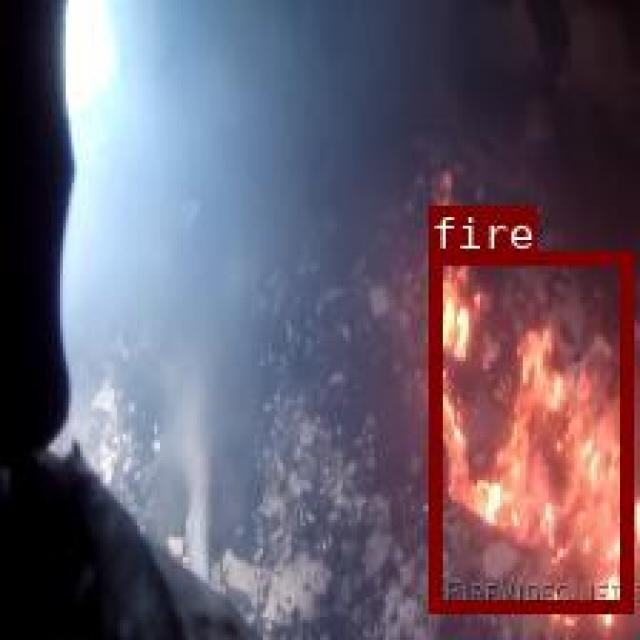fire: (427, 249, 631, 610)
